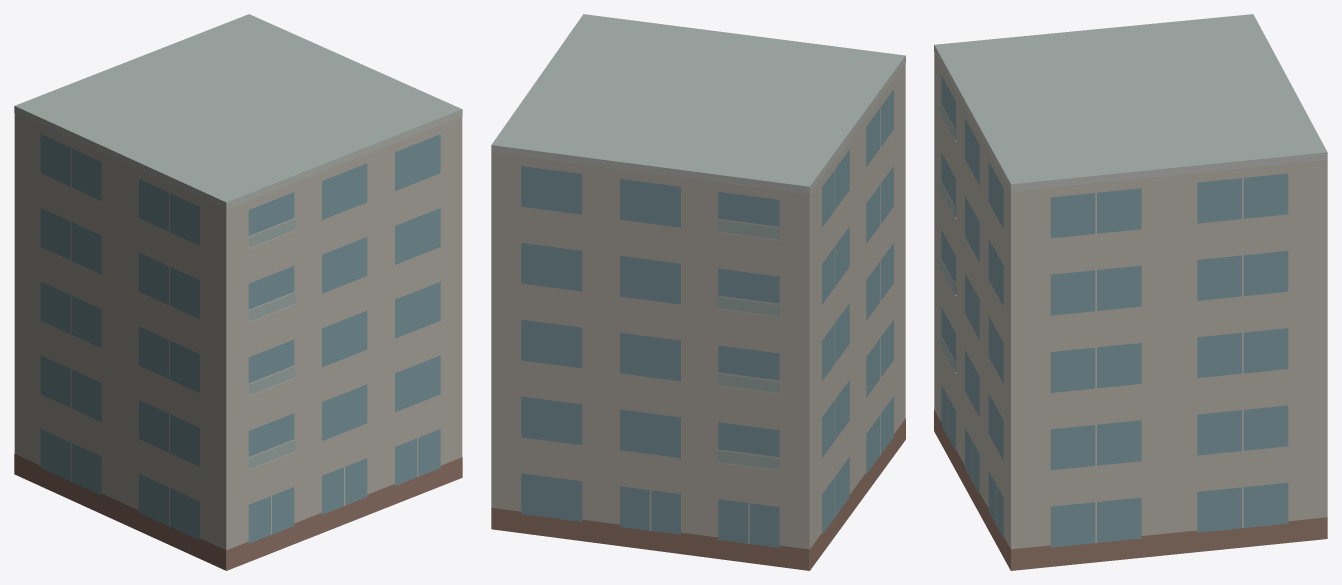
The model's file is survey-upis-32915441.glb.
The picture shows the model from 3 angles, left to right: view 1: azimuth 30°, elevation 25°; view 2: azimuth 150°, elevation 25°; view 3: azimuth 270°, elevation 25°; orthographic projection. The views are drawn at different scales.
Parts seen in each view (by area): view 1: survey-upis-32915441.tmp; view 2: survey-upis-32915441.tmp; view 3: survey-upis-32915441.tmp.
Part boxes in pixels (left/top/right/bottom): survey-upis-32915441.tmp: left=14, top=14, right=462, bottom=570; survey-upis-32915441.tmp: left=491, top=14, right=905, bottom=570; survey-upis-32915441.tmp: left=934, top=14, right=1327, bottom=570.
Size of the model in its own units: 11.91 by 12.6 by 11.63.
